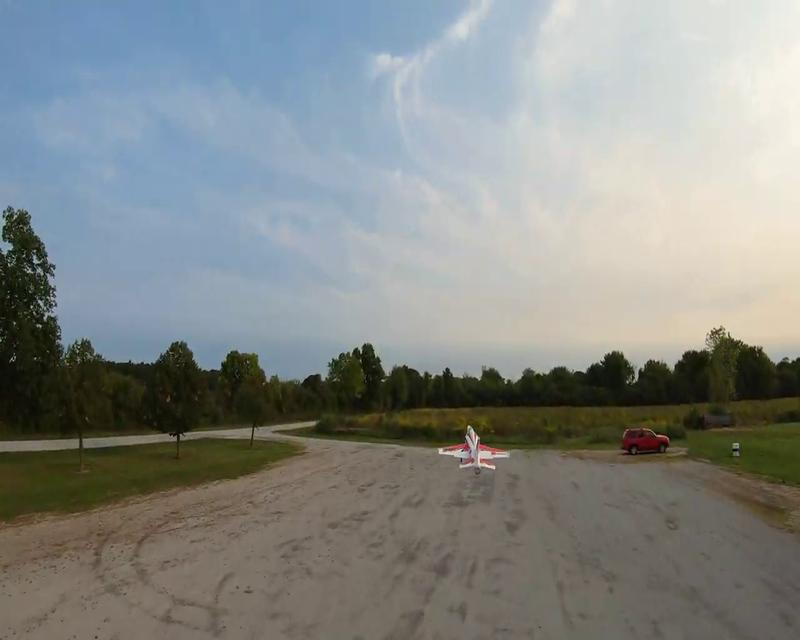UAV: (436, 424, 510, 475)
